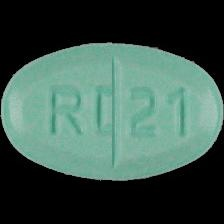63629-3043: (0, 0, 224, 224)
